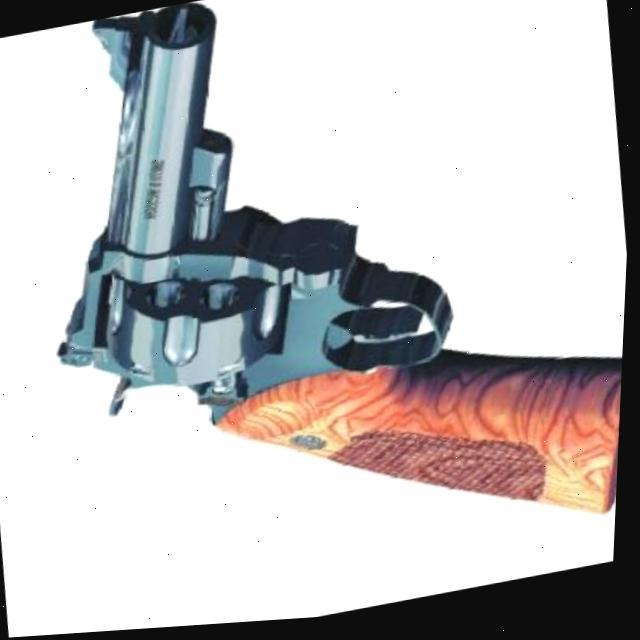gun: (11, 0, 640, 609)
